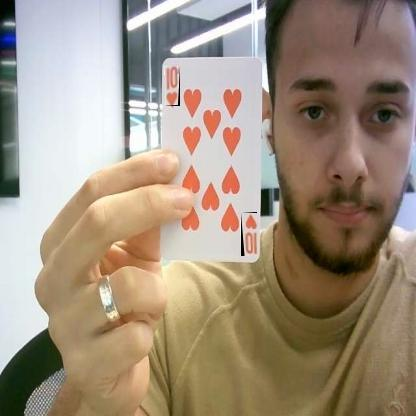10H: (241, 212, 257, 256), (165, 66, 180, 106)
